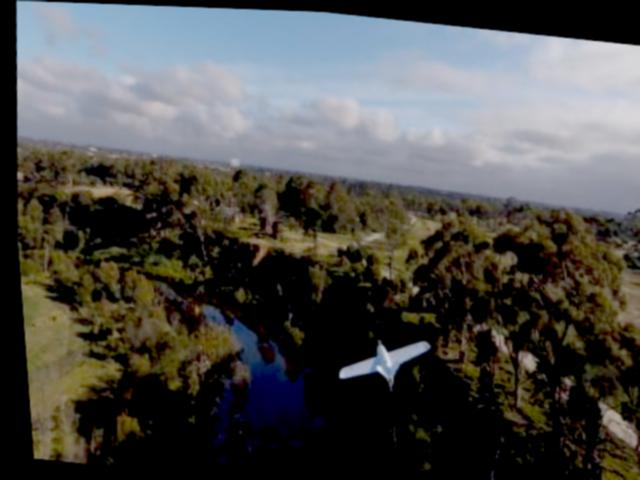uav: (327, 326, 429, 394)
